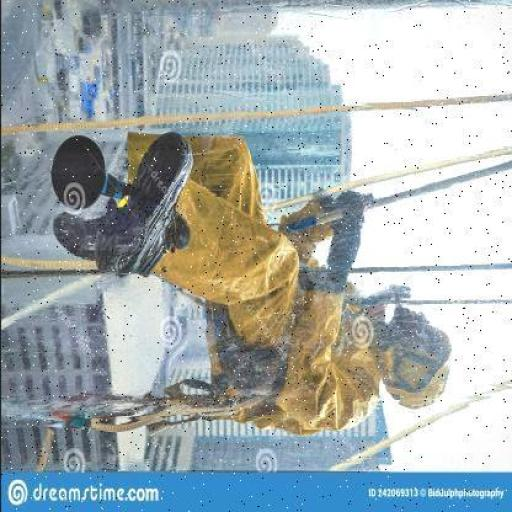person: (48, 126, 470, 438)
safety_shoe: (96, 133, 191, 289)
